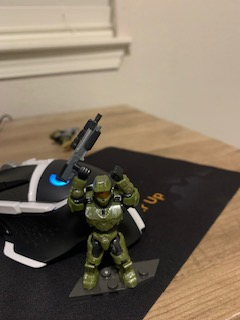chief: (64, 166, 143, 290)
rifle: (61, 113, 104, 187)
spartan: (62, 164, 141, 288)
up: (65, 166, 142, 232)
